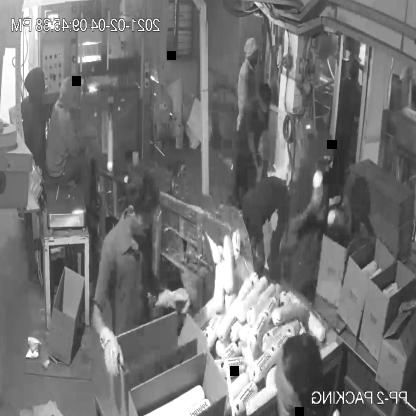glove: (88, 308, 131, 390), (143, 272, 202, 326)
no_glove: (288, 188, 328, 240), (240, 124, 267, 188)
